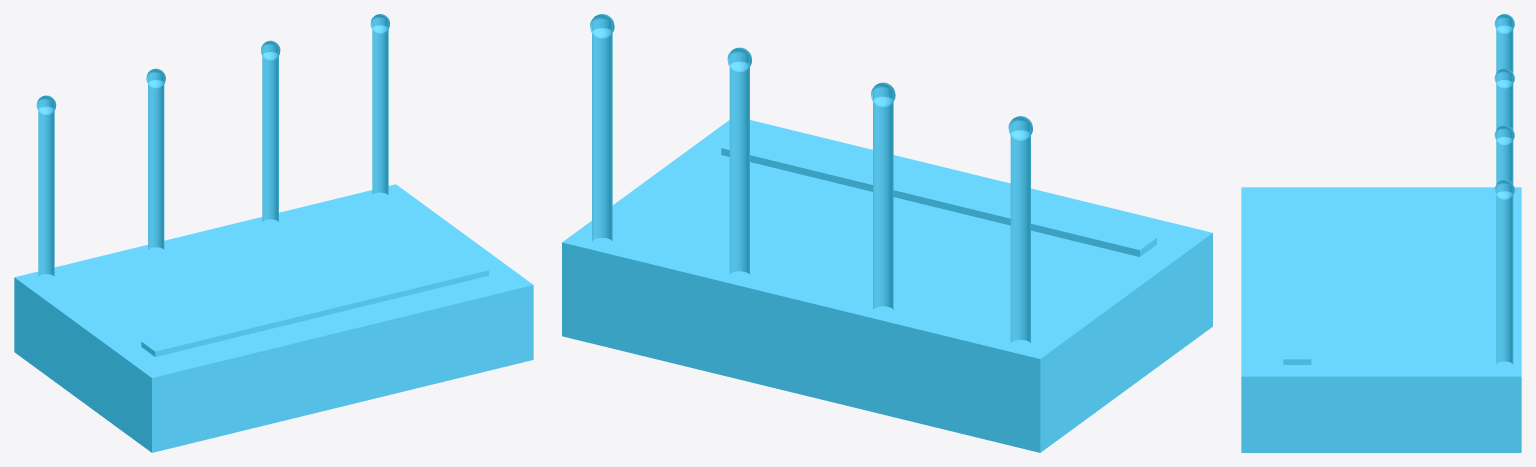
Rendered from router.glb.
3 views of the same model, side by side, from view 1: azimuth 30°, elevation 25°; view 2: azimuth 150°, elevation 25°; view 3: azimuth 270°, elevation 25° (orthographic). The views are drawn at different scales.
Visible parts, largest first — view 1: CyberDomeAsset; view 2: CyberDomeAsset; view 3: CyberDomeAsset.
Part boxes in pixels (bbox=[...]): CyberDomeAsset: bbox=[14, 14, 533, 452]; CyberDomeAsset: bbox=[562, 14, 1212, 452]; CyberDomeAsset: bbox=[1241, 14, 1521, 452].
Bounding box in the file's own units: 0.8 × 0.513 × 0.5.
